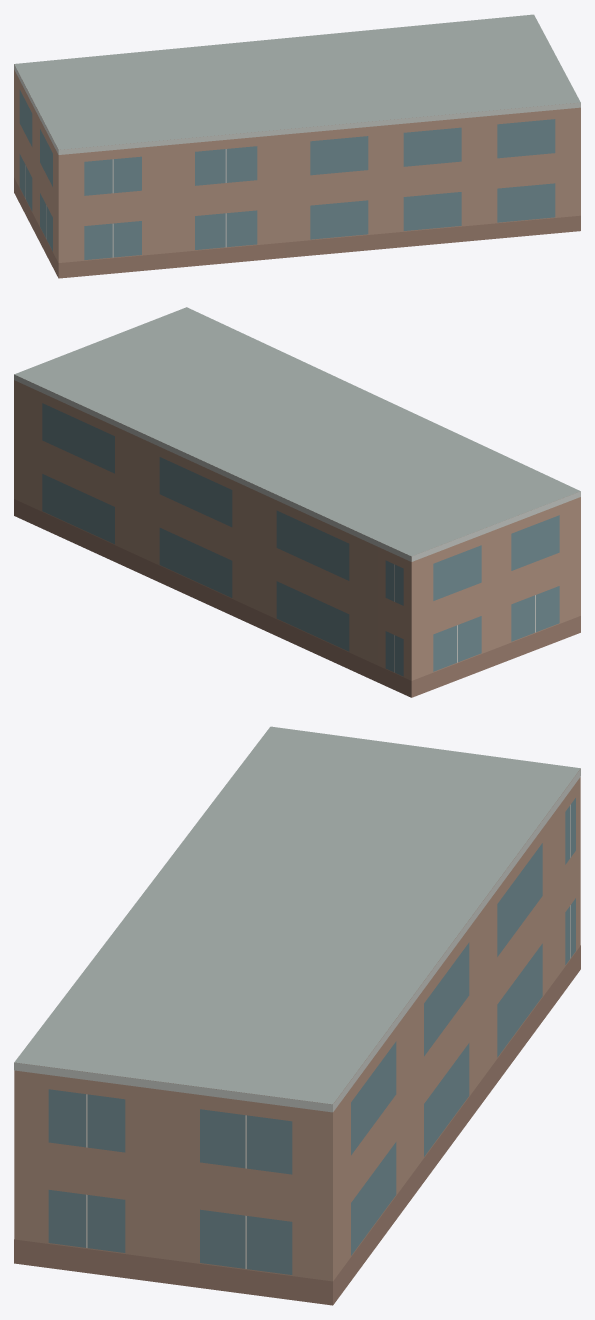
Rendered from survey-upis-32496832.glb.
3 views of the same model, one above another, from view 1: azimuth 30°, elevation 25°; view 2: azimuth 150°, elevation 25°; view 3: azimuth 270°, elevation 25° (orthographic). The views are drawn at different scales.
Visible parts, largest first — view 1: survey-upis-32496832.tmp; view 2: survey-upis-32496832.tmp; view 3: survey-upis-32496832.tmp.
Boxes of the visible parts, bbox=[...] form: survey-upis-32496832.tmp: bbox=[14, 14, 580, 278]; survey-upis-32496832.tmp: bbox=[14, 307, 580, 697]; survey-upis-32496832.tmp: bbox=[14, 726, 580, 1305].
Size of the model in its own units: 24.61 by 6.1 by 15.6.
